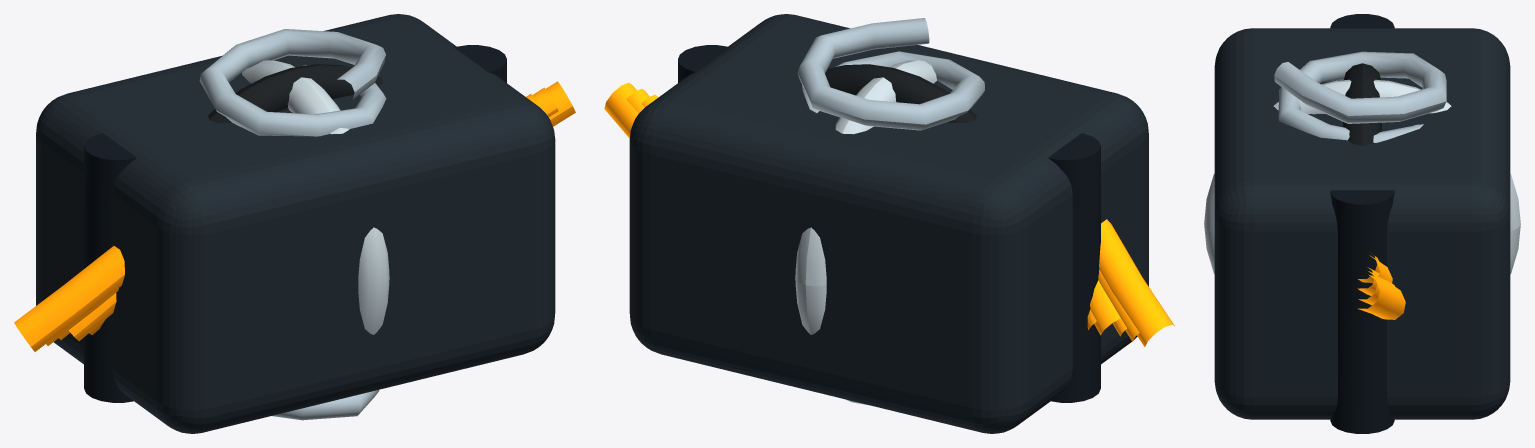
Rendered from remaining_systems_10.glb.
3 renders of one model, left to right at view 1: azimuth 30°, elevation 25°; view 2: azimuth 150°, elevation 25°; view 3: azimuth 270°, elevation 25°, orthographic. The views are drawn at different scales.
Visible parts, largest first — view 1: asset_mesh__remaining_systems_1043__reference_body, asset_mesh__remaining_systems_1102__coil_spring, asset_mesh__remaining_systems_1040__left_tank, asset_mesh__remaining_systems_1052__fluid_path, asset_mesh__remaining_systems_1097__functional_ring, asset_mesh__remaining_systems_1079__service_element, asset_mesh__remaining_systems_1040__right_tank, asset_mesh__remaining_systems_1103__fluid_path, asset_mesh__remaining_systems_1105__fluid_path; view 2: asset_mesh__remaining_systems_1043__reference_body, asset_mesh__remaining_systems_1102__coil_spring, asset_mesh__remaining_systems_1040__left_tank, asset_mesh__remaining_systems_1052__fluid_path, asset_mesh__remaining_systems_1097__functional_ring, asset_mesh__remaining_systems_1079__service_element, asset_mesh__remaining_systems_1040__right_tank, asset_mesh__remaining_systems_1105__fluid_path, asset_mesh__remaining_systems_1103__fluid_path; view 3: asset_mesh__remaining_systems_1043__reference_body, asset_mesh__remaining_systems_1040__right_tank, asset_mesh__remaining_systems_1102__coil_spring, asset_mesh__remaining_systems_1097__functional_ring, asset_mesh__remaining_systems_1079__service_element, asset_mesh__remaining_systems_1052__fluid_path, asset_mesh__remaining_systems_1040__left_tank.
Boxes of the visible parts, box(x1,y1,x2,y2) form: asset_mesh__remaining_systems_1043__reference_body: box(36, 14, 555, 433); asset_mesh__remaining_systems_1102__coil_spring: box(199, 29, 386, 420); asset_mesh__remaining_systems_1040__left_tank: box(84, 133, 136, 402); asset_mesh__remaining_systems_1052__fluid_path: box(14, 81, 575, 351); asset_mesh__remaining_systems_1097__functional_ring: box(242, 60, 389, 334); asset_mesh__remaining_systems_1079__service_element: box(208, 64, 382, 122); asset_mesh__remaining_systems_1040__right_tank: box(454, 45, 506, 82); asset_mesh__remaining_systems_1103__fluid_path: box(69, 293, 116, 340); asset_mesh__remaining_systems_1105__fluid_path: box(46, 87, 558, 345); asset_mesh__remaining_systems_1043__reference_body: box(629, 14, 1148, 433); asset_mesh__remaining_systems_1102__coil_spring: box(797, 18, 984, 405); asset_mesh__remaining_systems_1040__left_tank: box(1048, 133, 1100, 402); asset_mesh__remaining_systems_1052__fluid_path: box(604, 82, 1174, 346); asset_mesh__remaining_systems_1097__functional_ring: box(795, 60, 936, 334); asset_mesh__remaining_systems_1079__service_element: box(825, 64, 976, 122); asset_mesh__remaining_systems_1040__right_tank: box(678, 45, 730, 82); asset_mesh__remaining_systems_1105__fluid_path: box(626, 89, 1139, 341); asset_mesh__remaining_systems_1103__fluid_path: box(1090, 280, 1120, 335); asset_mesh__remaining_systems_1043__reference_body: box(1214, 28, 1510, 419); asset_mesh__remaining_systems_1040__right_tank: box(1330, 190, 1394, 433); asset_mesh__remaining_systems_1102__coil_spring: box(1274, 51, 1446, 142); asset_mesh__remaining_systems_1097__functional_ring: box(1204, 79, 1520, 274); asset_mesh__remaining_systems_1079__service_element: box(1343, 63, 1381, 145); asset_mesh__remaining_systems_1052__fluid_path: box(1358, 274, 1405, 319); asset_mesh__remaining_systems_1040__left_tank: box(1330, 14, 1394, 28).
Size of the model in its own units: 1.73 by 1.03 by 0.8996.
